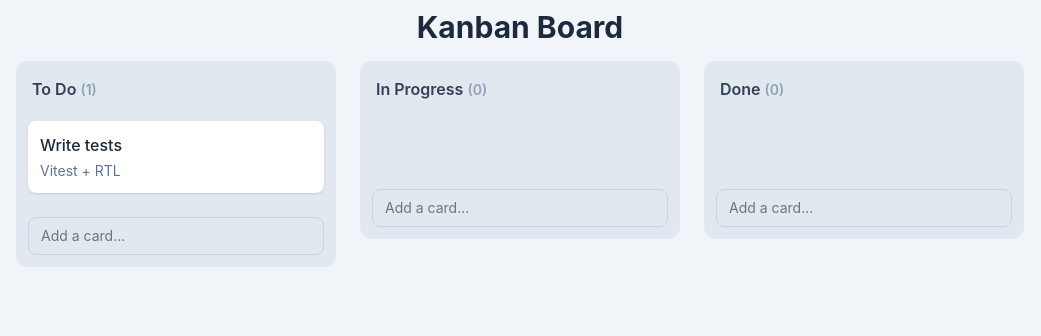
Scenario: App › shows an error when adding a card fails
Expected: the text "Write tests" is shown, [40, 135, 122, 155]
Type "Oops" into the field with placeholder "Add a card..." below "To Do" at (176, 236), box [28, 217, 324, 255]
Then press Enter
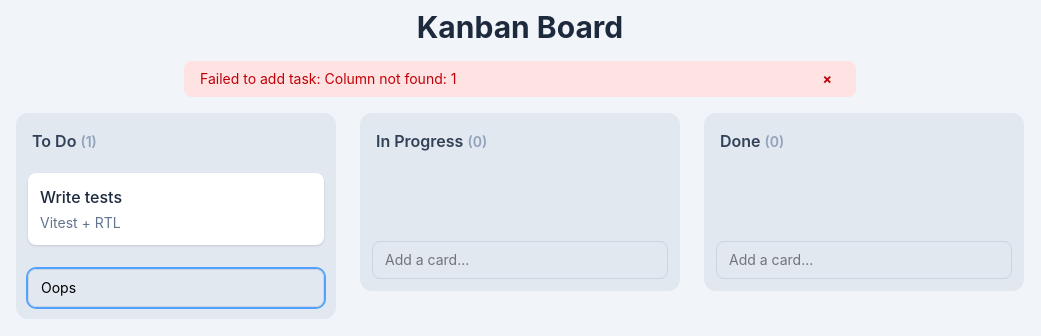
Expected: the text "Failed to add task: Column not found: 1" is shown, [200, 69, 456, 89]
